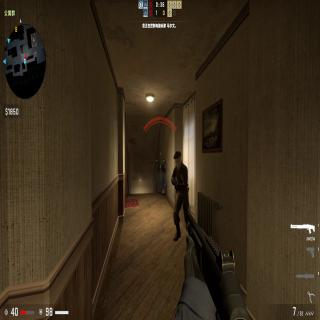T-Body: (172, 150, 192, 240)
T-Head: (174, 151, 182, 165)
